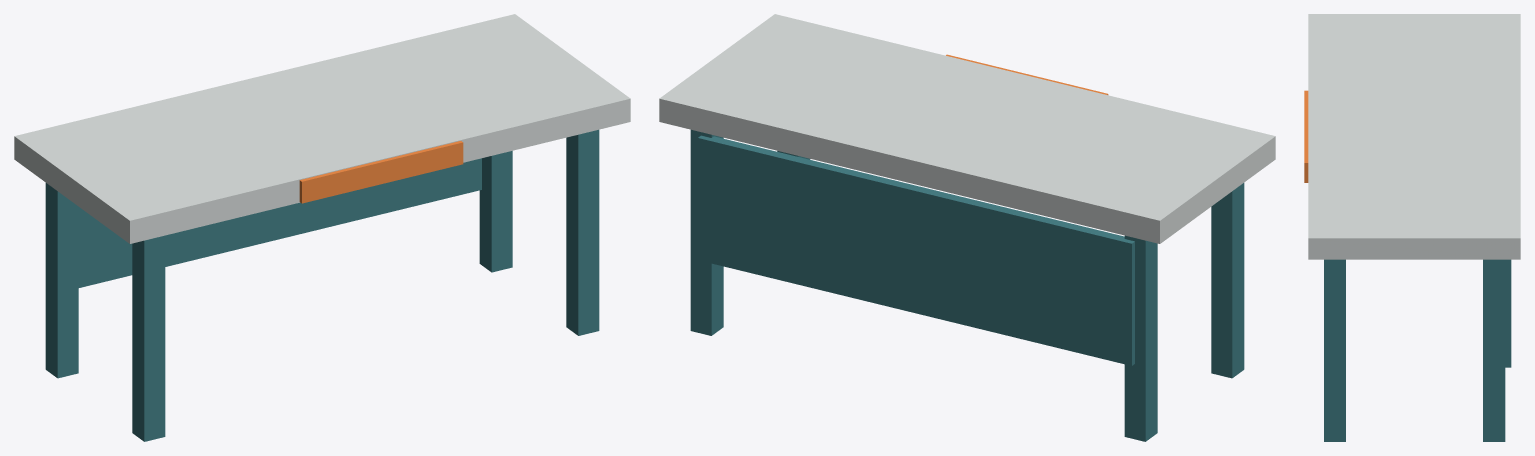
File: desk.glb
3 views of the same model, side by side, from view 1: azimuth 30°, elevation 25°; view 2: azimuth 150°, elevation 25°; view 3: azimuth 270°, elevation 25° (orthographic). The views are drawn at different scales.
Parts seen in each view (by area): view 1: Desk top, Rear cable modesty panel, Desk leg +0.78 -0.27, Desk leg -0.78 -0.27, Desk leg -0.78 +0.27, Desk safety stripe, Desk leg +0.78 +0.27; view 2: Desk top, Rear cable modesty panel, Desk leg -0.78 -0.27, Desk leg -0.78 +0.27, Desk leg +0.78 +0.27; view 3: Desk top, Desk leg +0.78 +0.27, Desk leg +0.78 -0.27, Rear cable modesty panel, Desk safety stripe.
Boxes of the visible parts, box(x1,y1,x2,y2) form: Desk top: box(14, 14, 630, 243); Rear cable modesty panel: box(78, 158, 481, 287); Desk leg +0.78 -0.27: box(566, 129, 599, 335); Desk leg -0.78 -0.27: box(132, 235, 165, 441); Desk leg -0.78 +0.27: box(45, 183, 78, 378); Desk safety stripe: box(299, 141, 463, 203); Desk leg +0.78 +0.27: box(479, 151, 512, 272); Desk top: box(659, 14, 1275, 243); Rear cable modesty panel: box(698, 135, 1134, 365); Desk leg -0.78 -0.27: box(1211, 183, 1244, 378); Desk leg -0.78 +0.27: box(1124, 235, 1157, 441); Desk leg +0.78 +0.27: box(690, 129, 723, 335); Desk top: box(1308, 14, 1520, 259); Desk leg +0.78 +0.27: box(1483, 259, 1505, 441); Desk leg +0.78 -0.27: box(1324, 259, 1345, 441); Rear cable modesty panel: box(1505, 259, 1511, 367); Desk safety stripe: box(1304, 90, 1308, 182).
Size of the model in its own units: 1.8 by 0.8 by 0.734.
